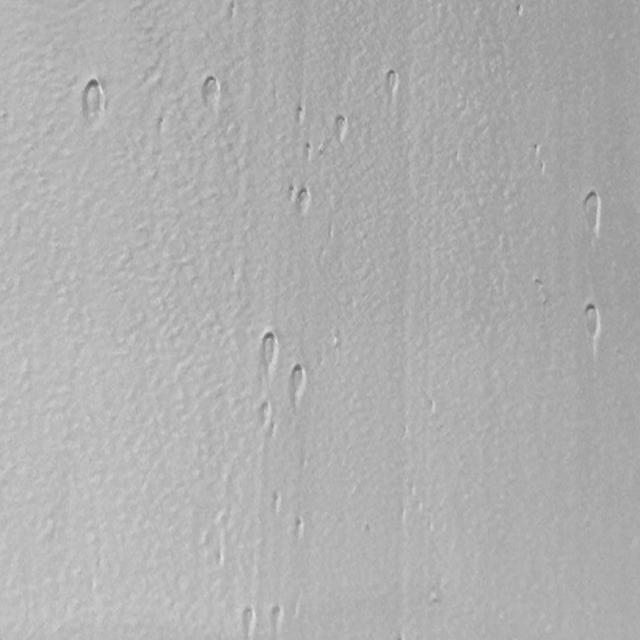pin holes: (80, 74, 109, 124), (578, 189, 606, 238), (579, 300, 604, 348), (198, 73, 223, 114), (255, 332, 279, 372), (266, 603, 288, 634), (238, 605, 259, 636), (287, 367, 307, 398), (293, 185, 313, 215), (285, 183, 307, 210), (330, 115, 350, 144), (382, 68, 402, 95), (254, 400, 272, 428), (291, 517, 306, 541), (223, 0, 240, 21), (268, 489, 284, 511), (513, 2, 527, 21), (295, 106, 307, 126), (531, 140, 544, 158), (303, 140, 315, 158)
